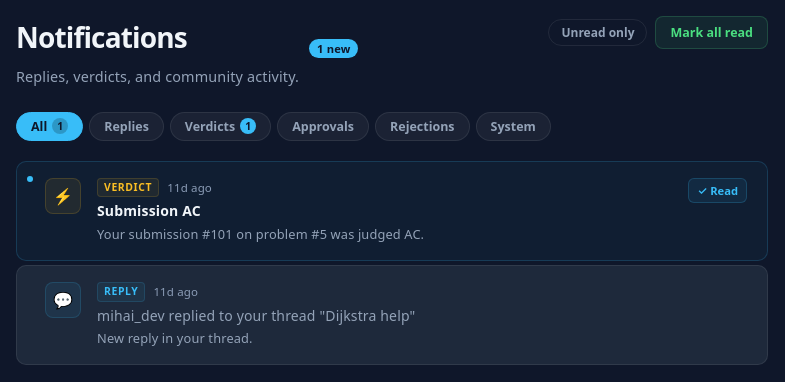
Test case: NotificationsPage (live events) › marks everything read through the bulk endpoint
Click the button "Mark all read" at {"x": 712, "y": 32}, box [656,16,768,49]
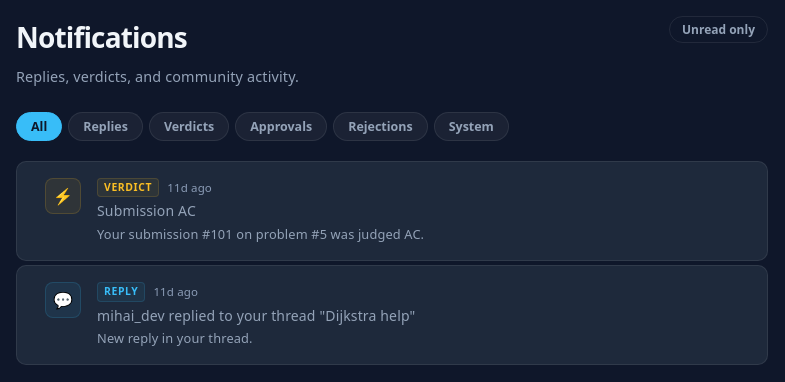
Result: the button "Mark all read" is gone
